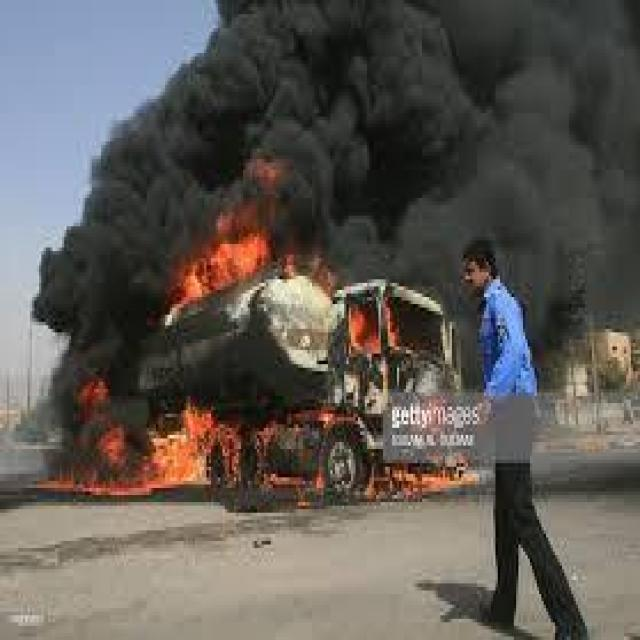fire: (58, 368, 479, 502), (170, 200, 308, 292), (344, 287, 412, 353)
smoke: (30, 0, 633, 357)
